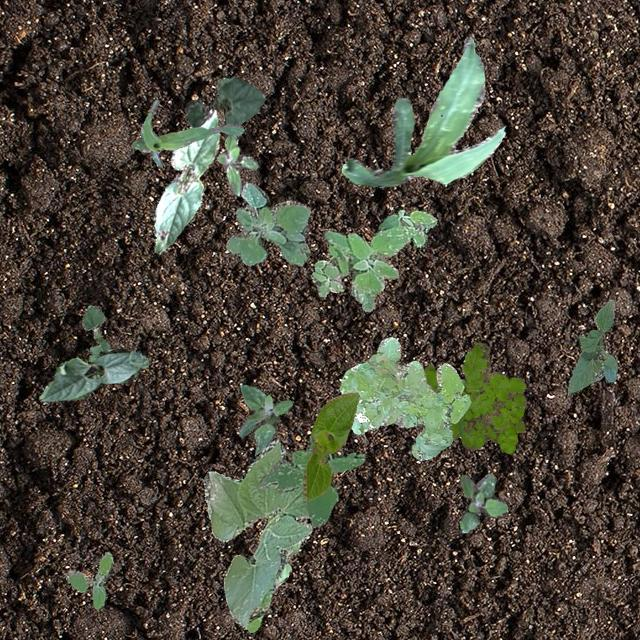crop: (341, 36, 504, 188), (202, 438, 310, 632), (152, 109, 218, 254), (132, 98, 242, 166), (302, 392, 358, 501), (39, 348, 148, 402), (566, 298, 616, 394), (184, 74, 264, 128), (80, 304, 110, 354), (275, 542, 298, 588)
weed: (338, 336, 469, 458), (310, 208, 436, 310), (422, 342, 526, 452), (258, 436, 364, 526), (226, 182, 310, 266), (238, 384, 292, 454), (62, 550, 112, 608), (458, 472, 506, 532), (216, 133, 258, 194)
